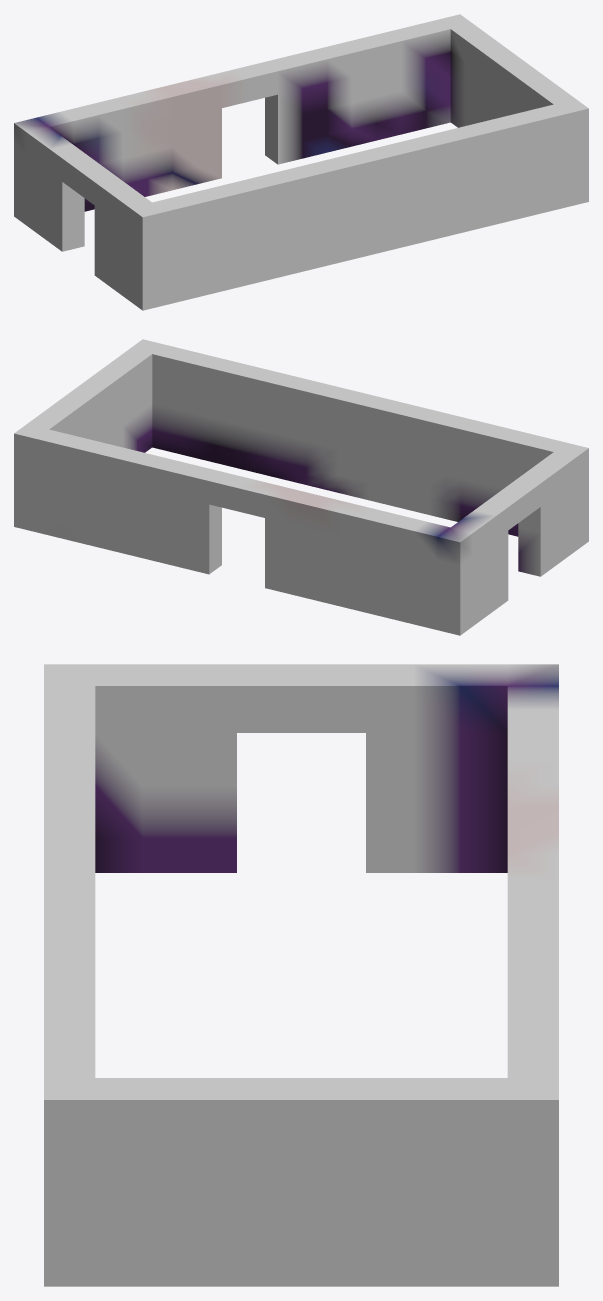
File: walls_1.fbx
3 renders of one model, top to bottom at view 1: azimuth 30°, elevation 25°; view 2: azimuth 150°, elevation 25°; view 3: azimuth 270°, elevation 25°, orthographic. The views are drawn at different scales.
Visible parts, largest first — view 1: WALL_01; view 2: WALL_01; view 3: WALL_01.
Boxes of the visible parts, bbox=[...] form: WALL_01: bbox=[14, 14, 588, 310]; WALL_01: bbox=[14, 339, 588, 635]; WALL_01: bbox=[44, 664, 558, 1286].
Size of the model in its own units: 4000 by 800 by 2000.
